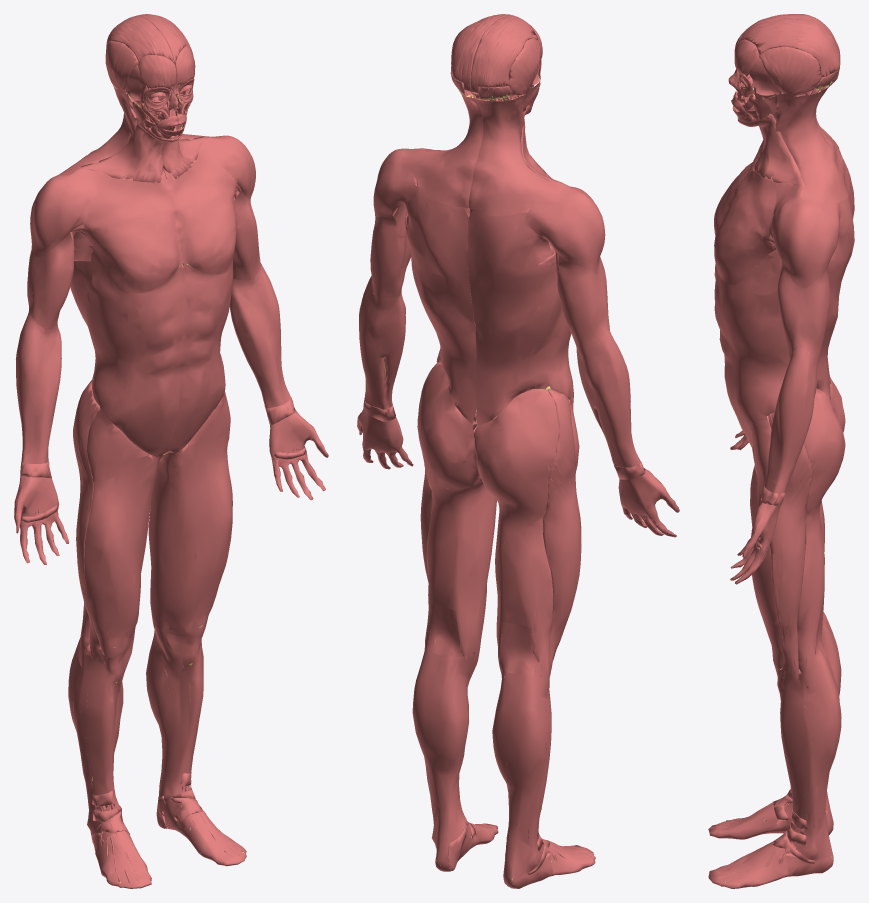
Rendered from muscular.glb.
3 views of the same model, side by side, from view 1: azimuth 30°, elevation 25°; view 2: azimuth 150°, elevation 25°; view 3: azimuth 270°, elevation 25° (orthographic). The views are drawn at different scales.
Visible parts, largest first — view 1: Investing abdominal fascia, Fascia lata, Fascia lata.001x, Crural fascia, Crural fascia.001x, Pectoral fascia, Investing abdominal fascia.001x, Pectoral fascia.001x, Antebrachial fascia, Antebrachial fascia.001x, Deltoid fascia, Brachial fascia (+13 smaller); view 2: Investing abdominal fascia, Fascia lata.001x, Fascia lata, Crural fascia.001x, Investing abdominal fascia.001x, Crural fascia, Superficial investing cervical fascia, Iliotibial tract, Antebrachial fascia, Antebrachial fascia.001x, Deltoid fascia, Superficial investing cervical fascia.001x (+11 smaller); view 3: Investing abdominal fascia.001x, Crural fascia, Fascia lata, Iliotibial tract.001x, Deltoid fascia.001x, Pectoral fascia.001x, Superficial investing cervical fascia.001x, Antebrachial fascia.001x, Brachial fascia.001x, Epicranial aponeurosis.001x, Crural fascia.001x, Temporoparietalis muscle (+13 smaller).
Part boxes in pixels (x1=…): Investing abdominal fascia: x1=70, y1=246, x2=184, y2=456; Fascia lata: x1=148, y1=391, x2=232, y2=637; Fascia lata.001x: x1=73, y1=380, x2=164, y2=658; Crural fascia: x1=146, y1=626, x2=246, y2=866; Crural fascia.001x: x1=68, y1=638, x2=151, y2=888; Pectoral fascia: x1=78, y1=178, x2=182, y2=294; Investing abdominal fascia.001x: x1=169, y1=262, x2=233, y2=452; Pectoral fascia.001x: x1=167, y1=158, x2=237, y2=274; Antebrachial fascia: x1=16, y1=315, x2=61, y2=463; Antebrachial fascia.001x: x1=229, y1=263, x2=291, y2=408; Deltoid fascia: x1=30, y1=169, x2=113, y2=257; Brachial fascia: x1=27, y1=232, x2=74, y2=329; Investing abdominal fascia: x1=467, y1=210, x2=573, y2=425; Fascia lata.001x: x1=474, y1=389, x2=581, y2=676; Fascia lata: x1=417, y1=364, x2=496, y2=655; Crural fascia.001x: x1=492, y1=665, x2=595, y2=888; Investing abdominal fascia.001x: x1=403, y1=185, x2=476, y2=424; Crural fascia: x1=412, y1=648, x2=498, y2=871; Superficial investing cervical fascia: x1=469, y1=86, x2=570, y2=216; Iliotibial tract: x1=543, y1=390, x2=581, y2=676; Antebrachial fascia: x1=575, y1=329, x2=641, y2=467; Antebrachial fascia.001x: x1=359, y1=276, x2=405, y2=409; Deltoid fascia: x1=521, y1=173, x2=605, y2=273; Superficial investing cervical fascia.001x: x1=399, y1=91, x2=483, y2=208; Investing abdominal fascia.001x: x1=714, y1=194, x2=854, y2=448; Crural fascia: x1=708, y1=656, x2=841, y2=888; Fascia lata: x1=751, y1=388, x2=845, y2=673; Iliotibial tract.001x: x1=768, y1=411, x2=812, y2=681; Deltoid fascia.001x: x1=771, y1=182, x2=843, y2=288; Pectoral fascia.001x: x1=714, y1=171, x2=776, y2=285; Superficial investing cervical fascia.001x: x1=752, y1=83, x2=848, y2=205; Antebrachial fascia.001x: x1=764, y1=348, x2=819, y2=493; Brachial fascia.001x: x1=777, y1=259, x2=829, y2=357; Epicranial aponeurosis.001x: x1=738, y1=18, x2=840, y2=77; Crural fascia.001x: x1=708, y1=618, x2=841, y2=839; Temporoparietalis muscle: x1=759, y1=46, x2=820, y2=95.
Bounding box in the file's own units: 4.7 × 11.91 × 1.88.
